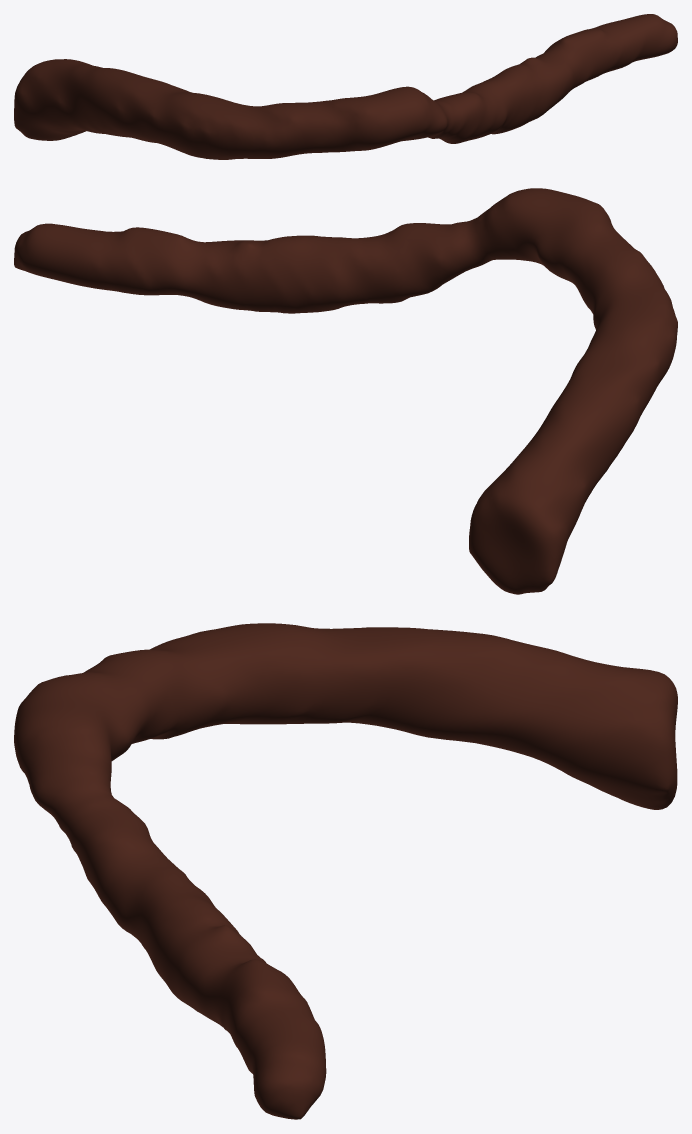
The model's file is left subclavian artery.obj.
3 renders of one model, top to bottom at view 1: azimuth 30°, elevation 25°; view 2: azimuth 150°, elevation 25°; view 3: azimuth 270°, elevation 25°, orthographic. The views are drawn at different scales.
Parts seen in each view (by area): view 1: grp1; view 2: grp1; view 3: grp1.
Part boxes in pixels (x1,y1,x2,y2): grp1: [14, 14, 677, 159]; grp1: [14, 188, 677, 594]; grp1: [14, 623, 677, 1119].
Size of the model in its own units: 94.35 by 23.24 by 61.78.
